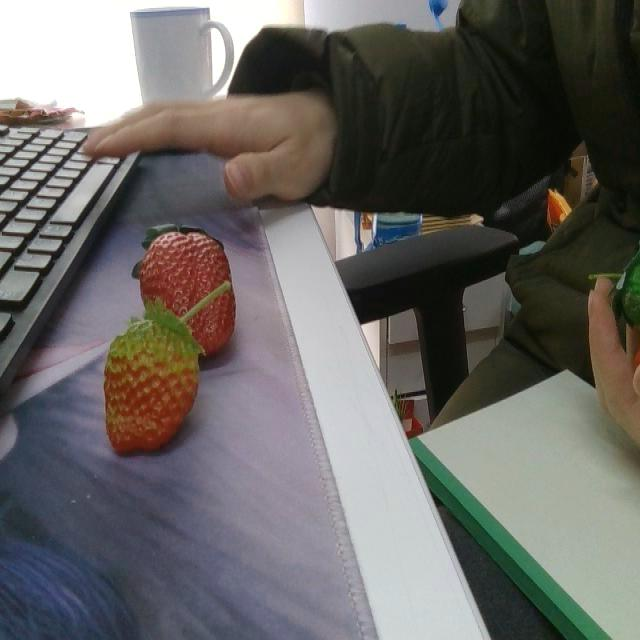ripe: (140, 228, 236, 352)
unripe: (103, 320, 197, 450)
